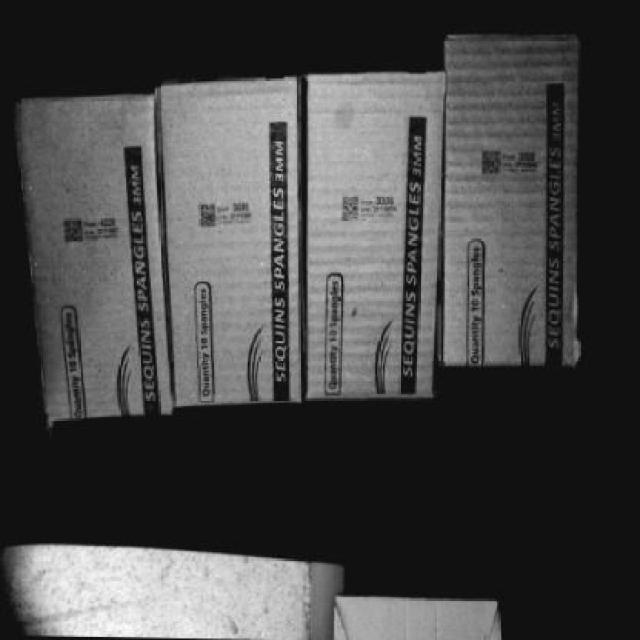cardboxes: (151, 80, 317, 412), (9, 96, 176, 421), (445, 29, 587, 371), (305, 74, 444, 398), (152, 405, 168, 406), (159, 77, 164, 78)
